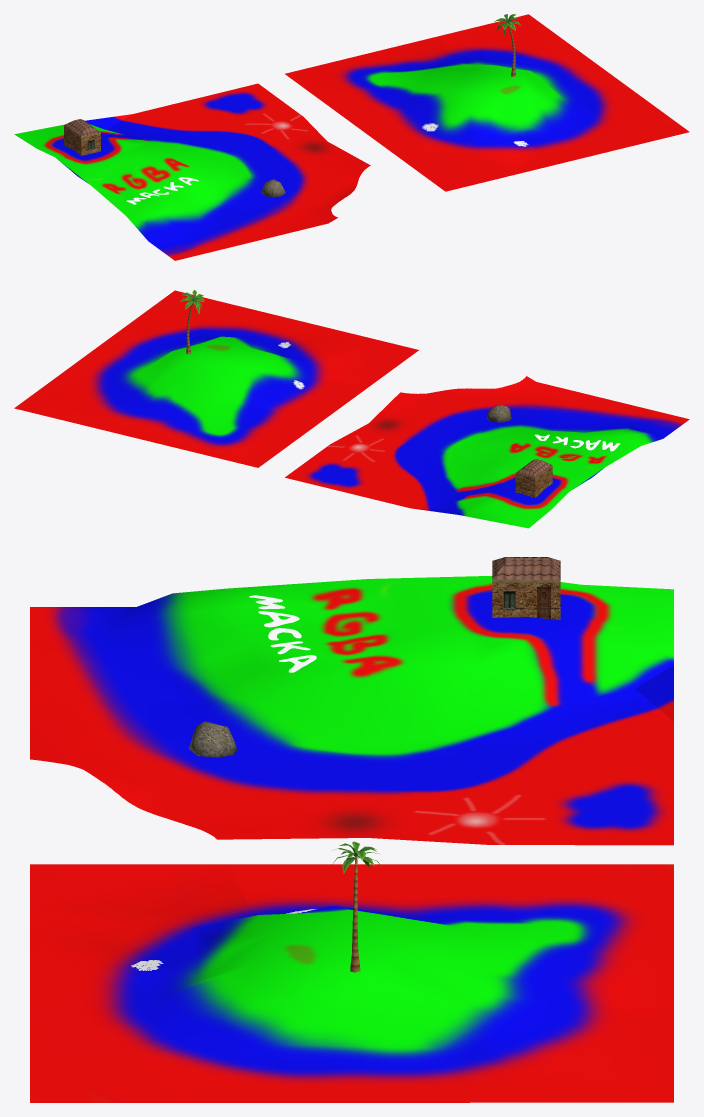
File: splat.obj
The picture shows the model from 3 angles, top to bottom: view 1: azimuth 30°, elevation 25°; view 2: azimuth 150°, elevation 25°; view 3: azimuth 270°, elevation 25°; orthographic projection. The views are drawn at different scales.
Parts seen in each view (by area): view 1: land_2, land_1, house, palm; view 2: land_2, land_1, house, palm; view 3: land_2, land_1, house, stone, palm.
Boxes of the visible parts, bbox=[...] form: land_2: bbox=[285, 14, 689, 191]; land_1: bbox=[14, 83, 370, 260]; house: bbox=[64, 119, 100, 155]; palm: bbox=[494, 14, 521, 76]; land_2: bbox=[14, 290, 418, 467]; land_1: bbox=[285, 376, 689, 528]; house: bbox=[515, 459, 552, 497]; palm: bbox=[180, 290, 204, 354]; land_2: bbox=[30, 864, 673, 1102]; land_1: bbox=[30, 575, 673, 845]; house: bbox=[492, 557, 560, 619]; stone: bbox=[189, 721, 237, 757]; palm: bbox=[332, 841, 381, 972].
Bounding box in the file's own units: 1044 × 175 × 566.
